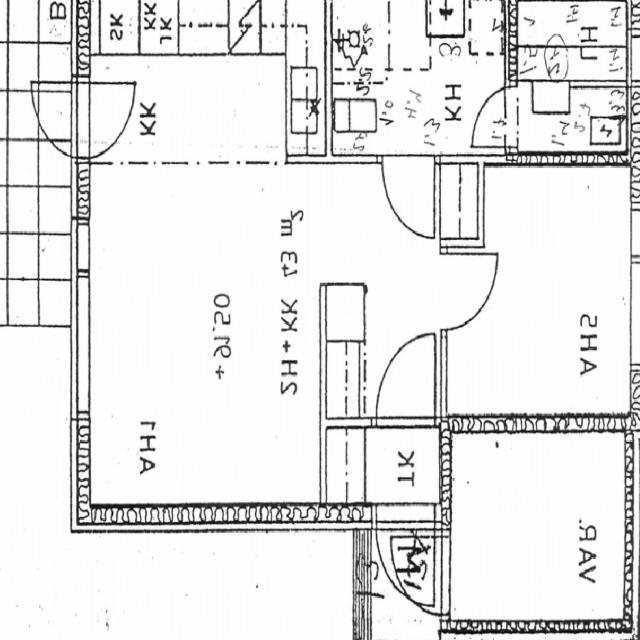door: (377, 503, 435, 618), (376, 328, 436, 426), (72, 83, 141, 158), (22, 83, 91, 158), (389, 536, 450, 616), (383, 153, 435, 242), (441, 254, 498, 328), (465, 87, 518, 146)
